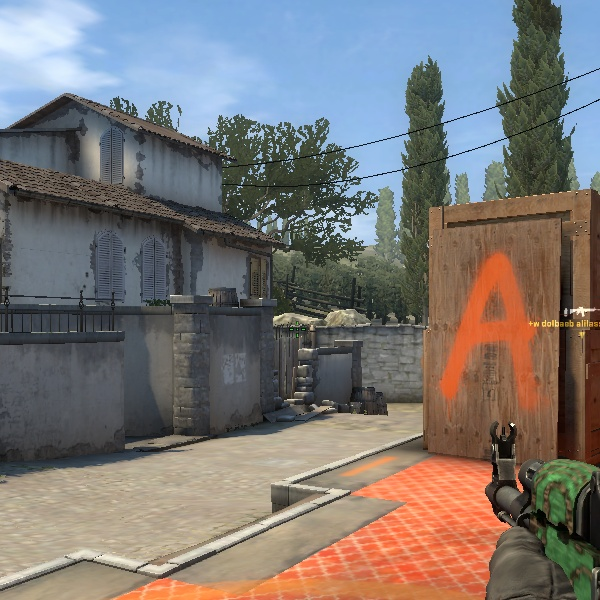t_body: (291, 352, 327, 411)
